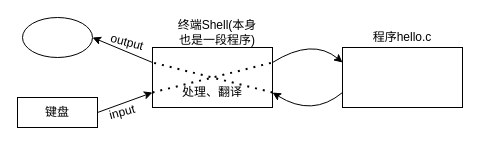
Some shapes in this 480 by 152 pixel diagram are drawn without their labels. The shapes that lost their labels are listed below. From the top down, each one's centre as x and y in pixels, then its label:
At point 57,37: "用户视点".
At point 402,77: "..... /n /b".
